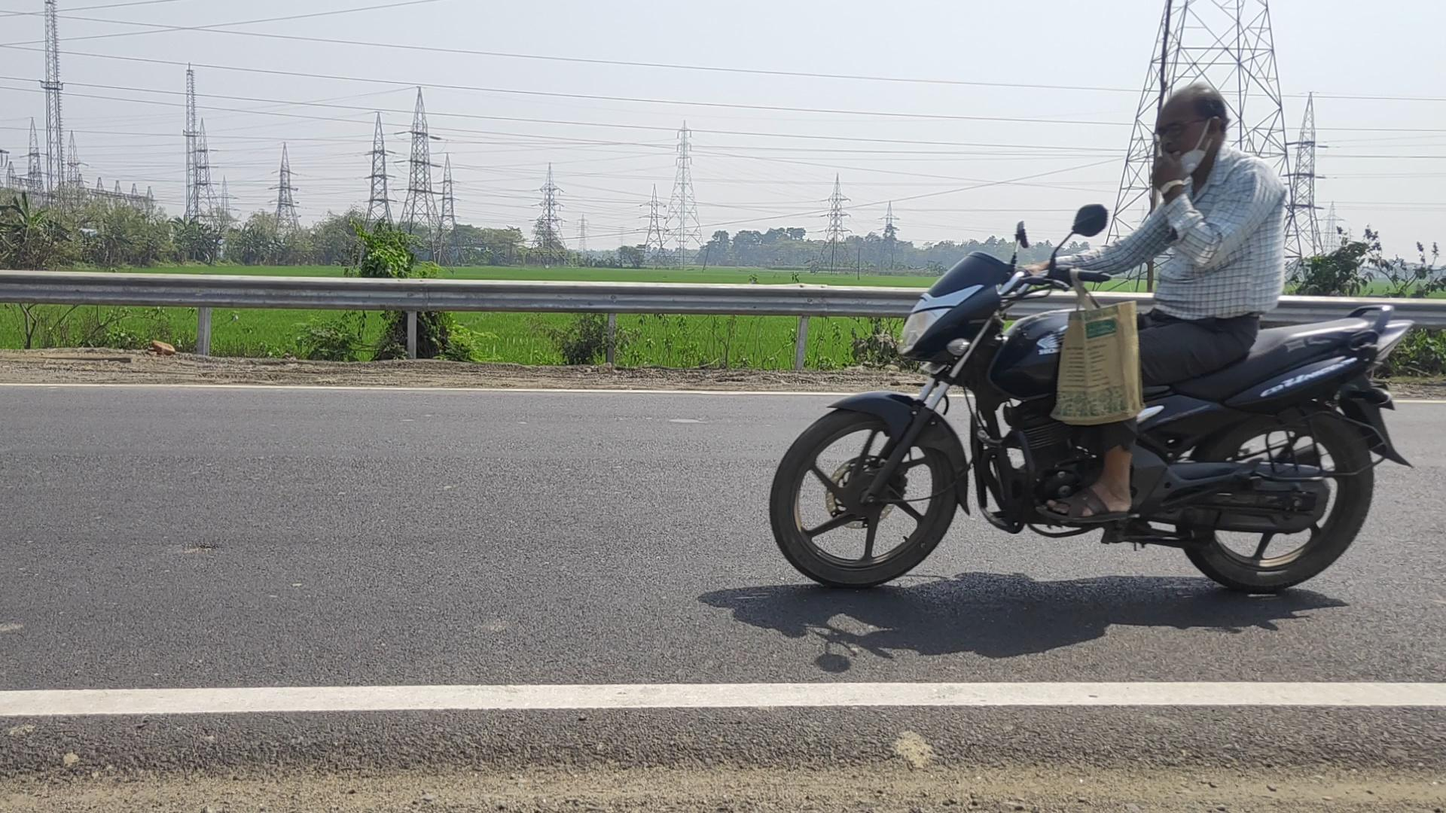bike: (770, 83, 1415, 593)
